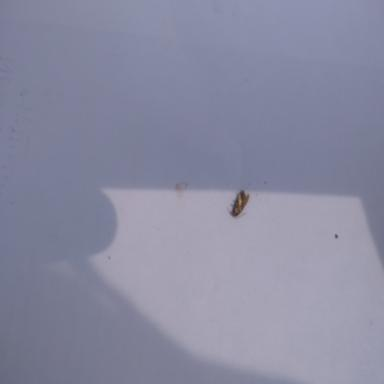pbw: (227, 190, 250, 220)
